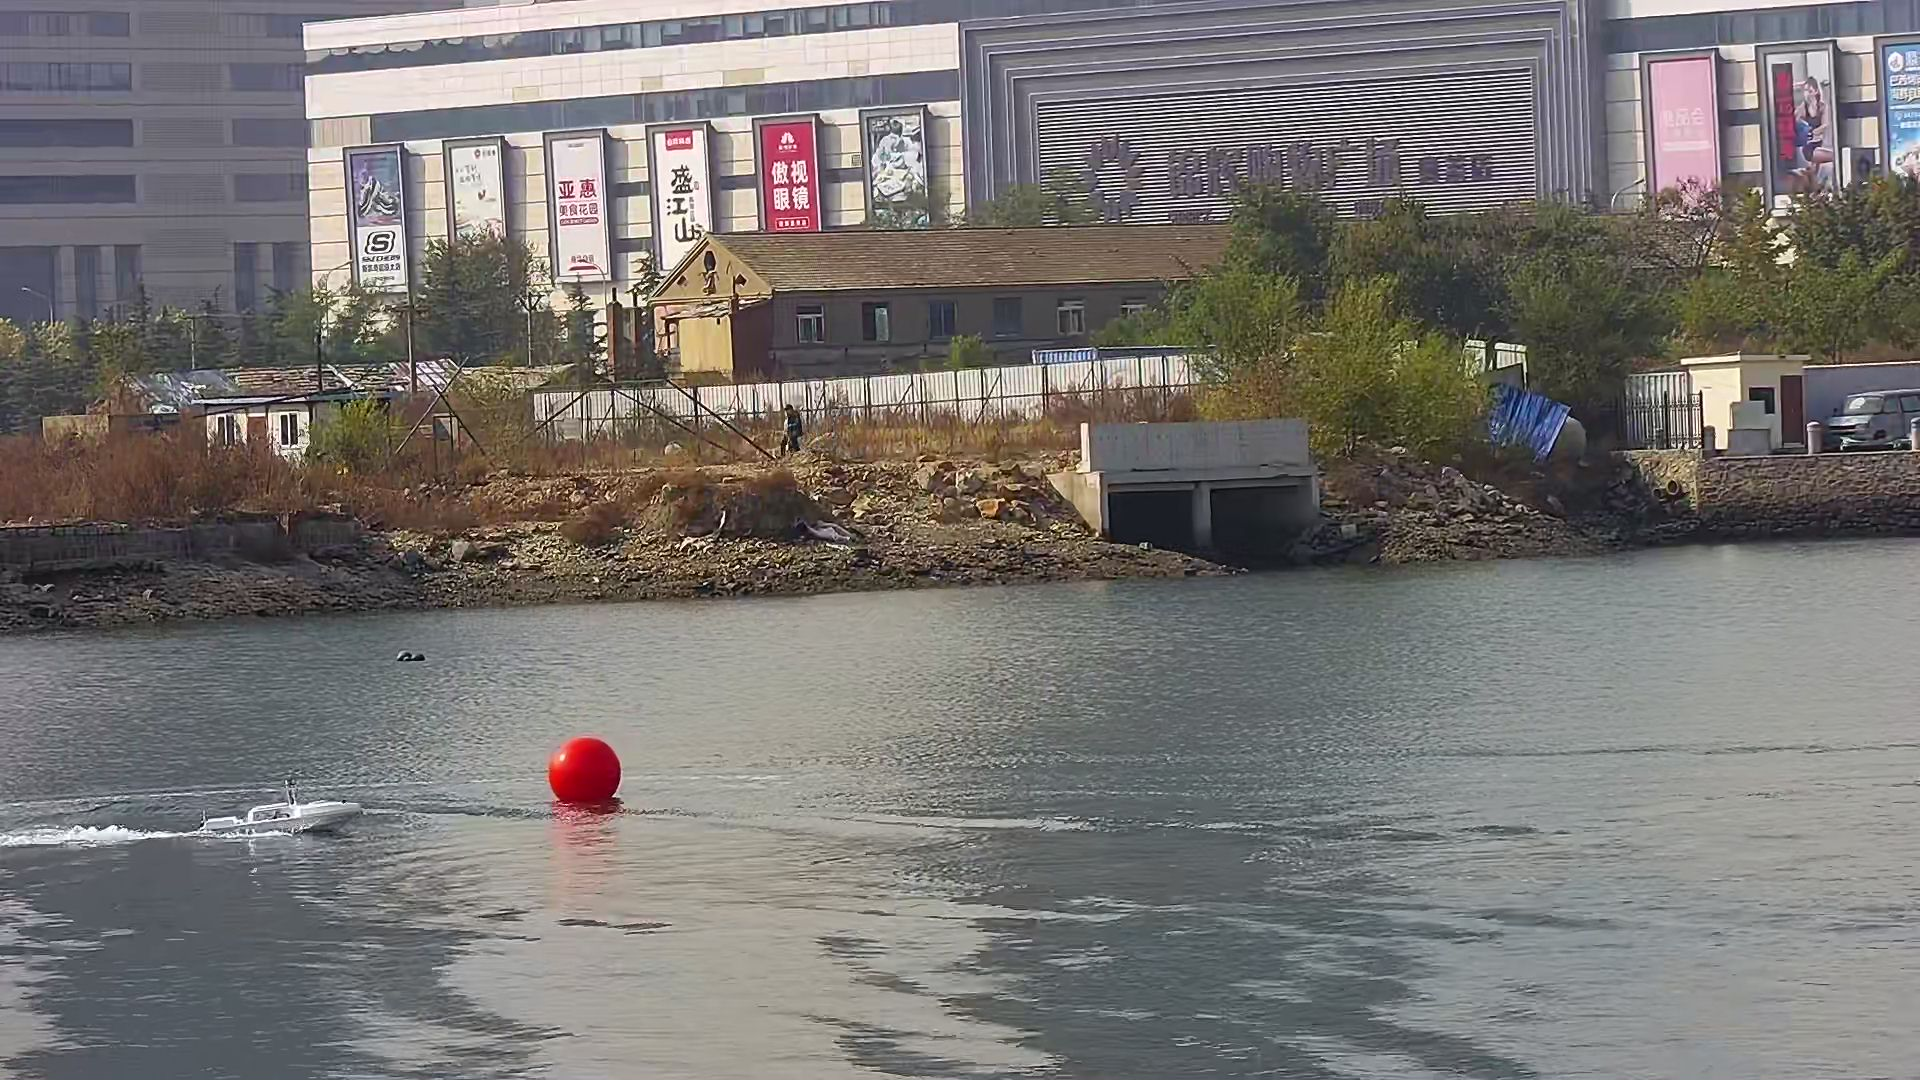ball: (549, 736, 626, 807)
boat: (195, 782, 363, 843)
rubbish: (396, 646, 429, 665)
